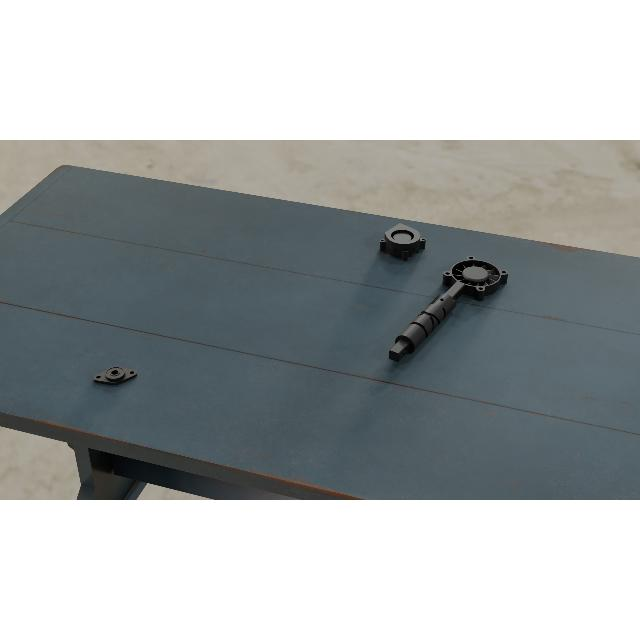Pieza1: (384, 276, 471, 368)
Pieza2: (92, 362, 138, 388)
Pieza3: (378, 223, 428, 263)
Pieza4: (440, 254, 510, 304)
